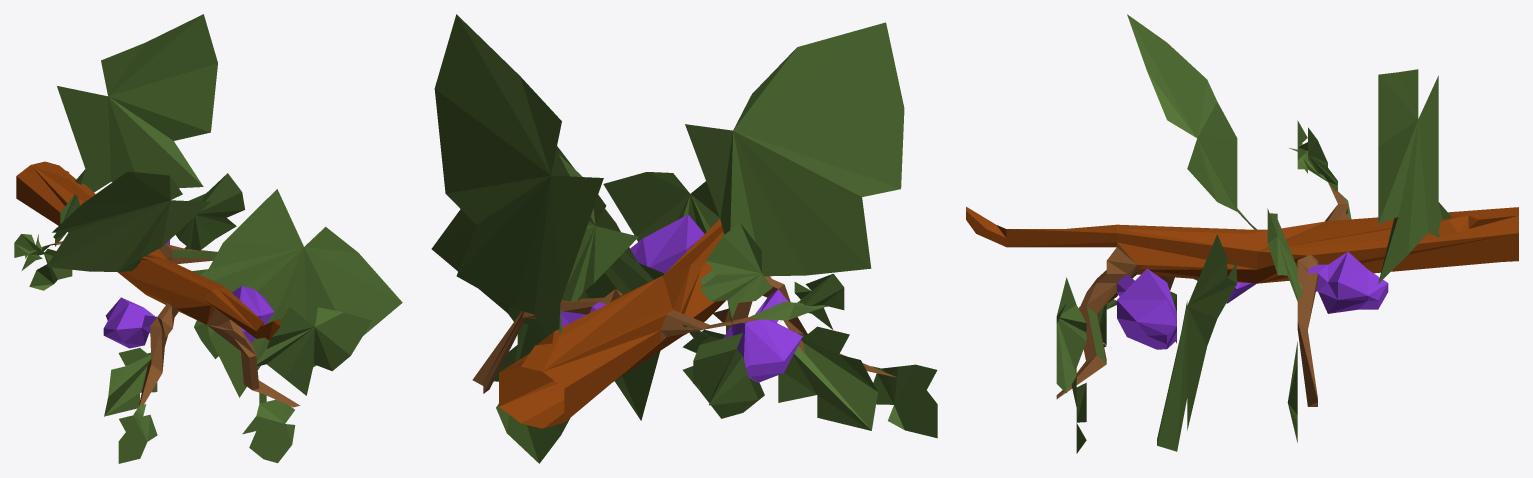
File: grapevine.obj
The picture shows the model from 3 angles, left to right: view 1: azimuth 30°, elevation 25°; view 2: azimuth 150°, elevation 25°; view 3: azimuth 270°, elevation 25°; orthographic projection. The views are drawn at different scales.
Visible parts, largest first — view 1: grapevine; view 2: grapevine; view 3: grapevine.
Part boxes in pixels (x1,y1,x2,y2): grapevine: (14, 14, 402, 463); grapevine: (431, 14, 937, 463); grapevine: (966, 14, 1518, 453).
Size of the model in its own units: 0.46 by 0.46 by 0.55.
